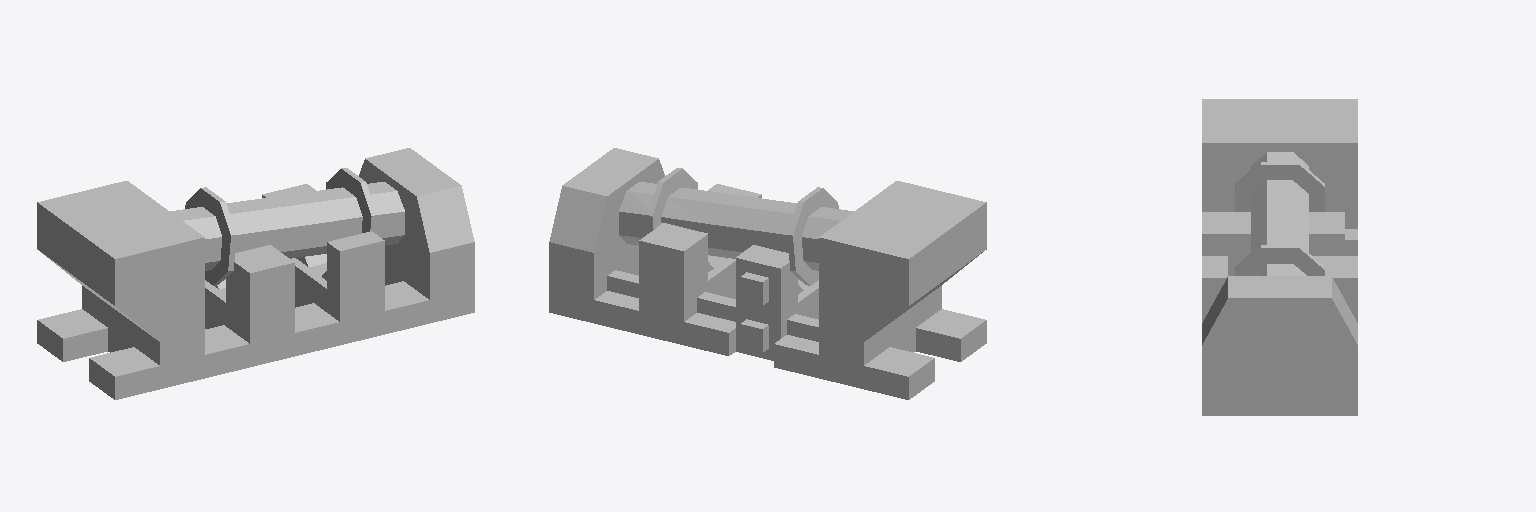
File: rotarykiln_mirrored.obj
3 views of the same model, side by side, from view 1: azimuth 30°, elevation 25°; view 2: azimuth 150°, elevation 25°; view 3: azimuth 270°, elevation 25° (orthographic).
Visible parts, largest first — view 1: Tube_Cube.002; view 2: Tube_Cube.002; view 3: Tube_Cube.002.
Part boxes in pixels (left/top/right/bottom): Tube_Cube.002: left=37, top=148, right=474, bottom=399; Tube_Cube.002: left=549, top=148, right=986, bottom=399; Tube_Cube.002: left=1202, top=99, right=1357, bottom=415.
Size of the model in its own units: 8 by 3.06 by 3.